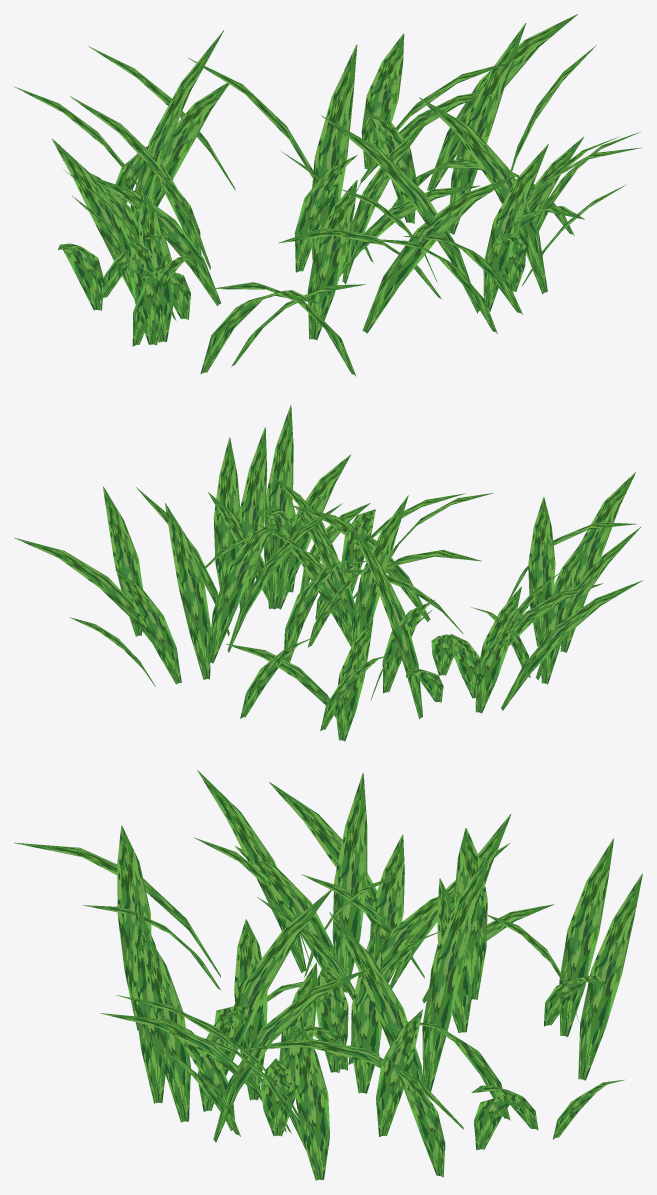
File: nat_meadow_grass.glb
3 renders of one model, top to bottom at view 1: azimuth 30°, elevation 25°; view 2: azimuth 150°, elevation 25°; view 3: azimuth 270°, elevation 25°, orthographic. The views are drawn at different scales.
Visible parts, largest first — view 1: foliage; view 2: foliage; view 3: foliage.
Boxes of the visible parts, x1,y1,x2,y2 form: foliage: [14, 14, 641, 376]; foliage: [14, 405, 642, 741]; foliage: [14, 770, 642, 1180].
Bounding box in the file's own units: 2.38 × 0.7716 × 2.01.
Materials: 1 (1 with a texture image).
